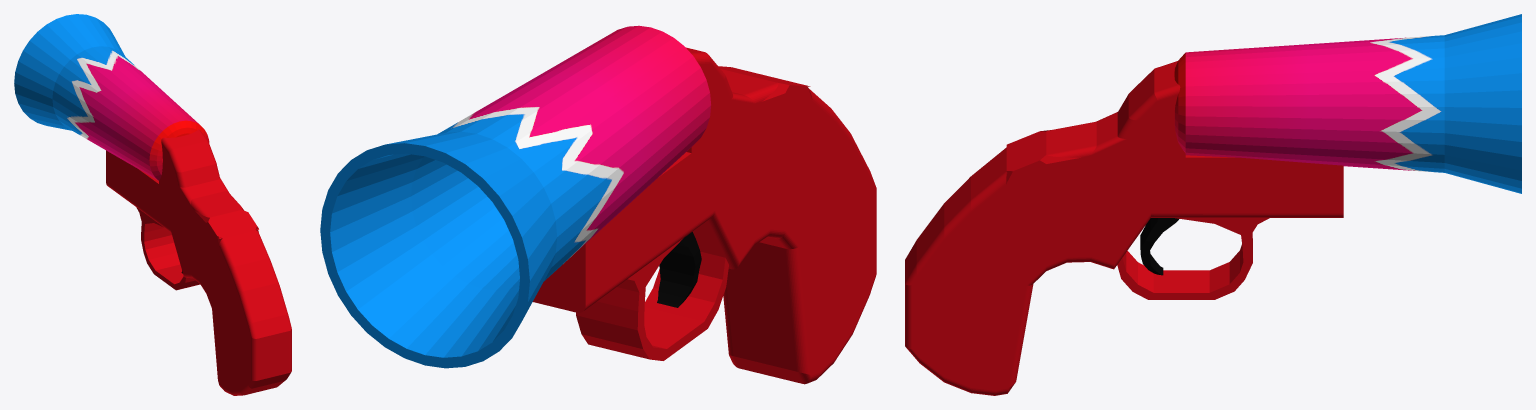
File: PistoletNeige.fbx
3 views of the same model, side by side, from view 1: azimuth 30°, elevation 25°; view 2: azimuth 150°, elevation 25°; view 3: azimuth 270°, elevation 25° (orthographic). The views are drawn at different scales.
Visible parts, largest first — view 1: Culasse, Canon; view 2: Canon, Culasse; view 3: Culasse, Canon.
Boxes of the visible parts, box(x1,y1,x2,y2) form: Culasse: box(106, 129, 291, 395); Canon: box(14, 14, 209, 180); Canon: box(320, 25, 711, 368); Culasse: box(533, 47, 876, 384); Culasse: box(905, 61, 1343, 395); Canon: box(1174, 14, 1521, 193).
Size of the model in its own units: 136 by 301 by 465.
